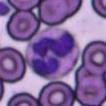N: (27, 28, 80, 79)
